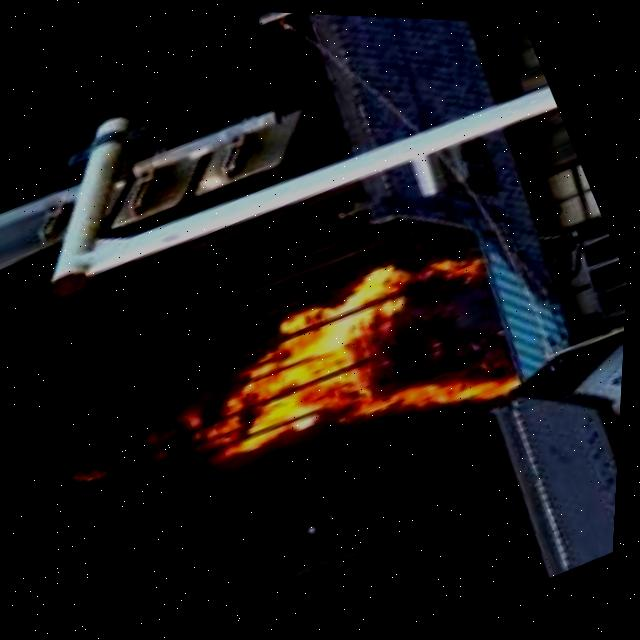Fire: (157, 215, 535, 506)
